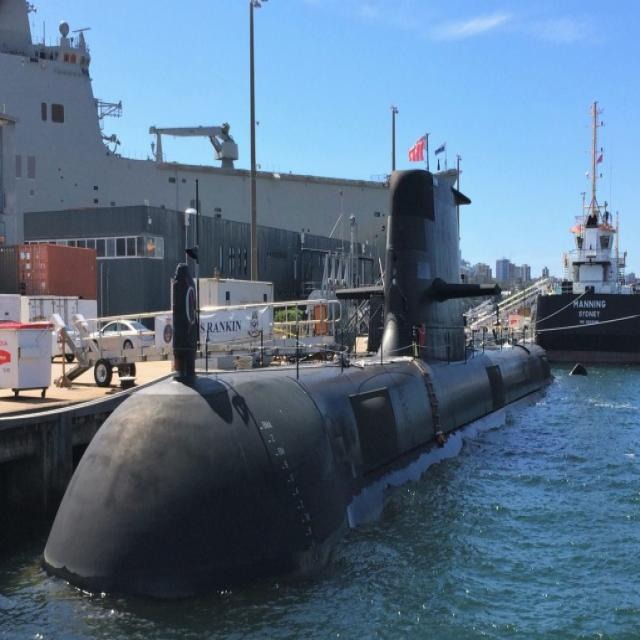submarine: (33, 159, 559, 588)
